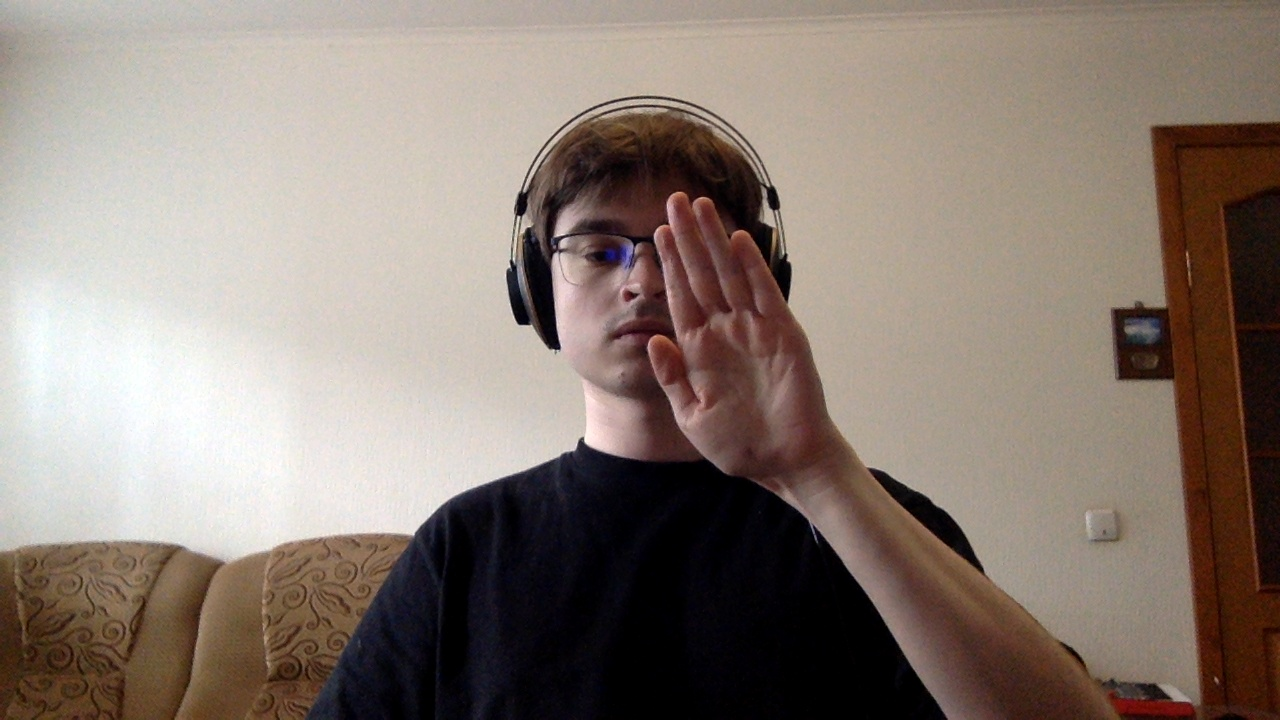hello: (608, 182, 882, 513)
